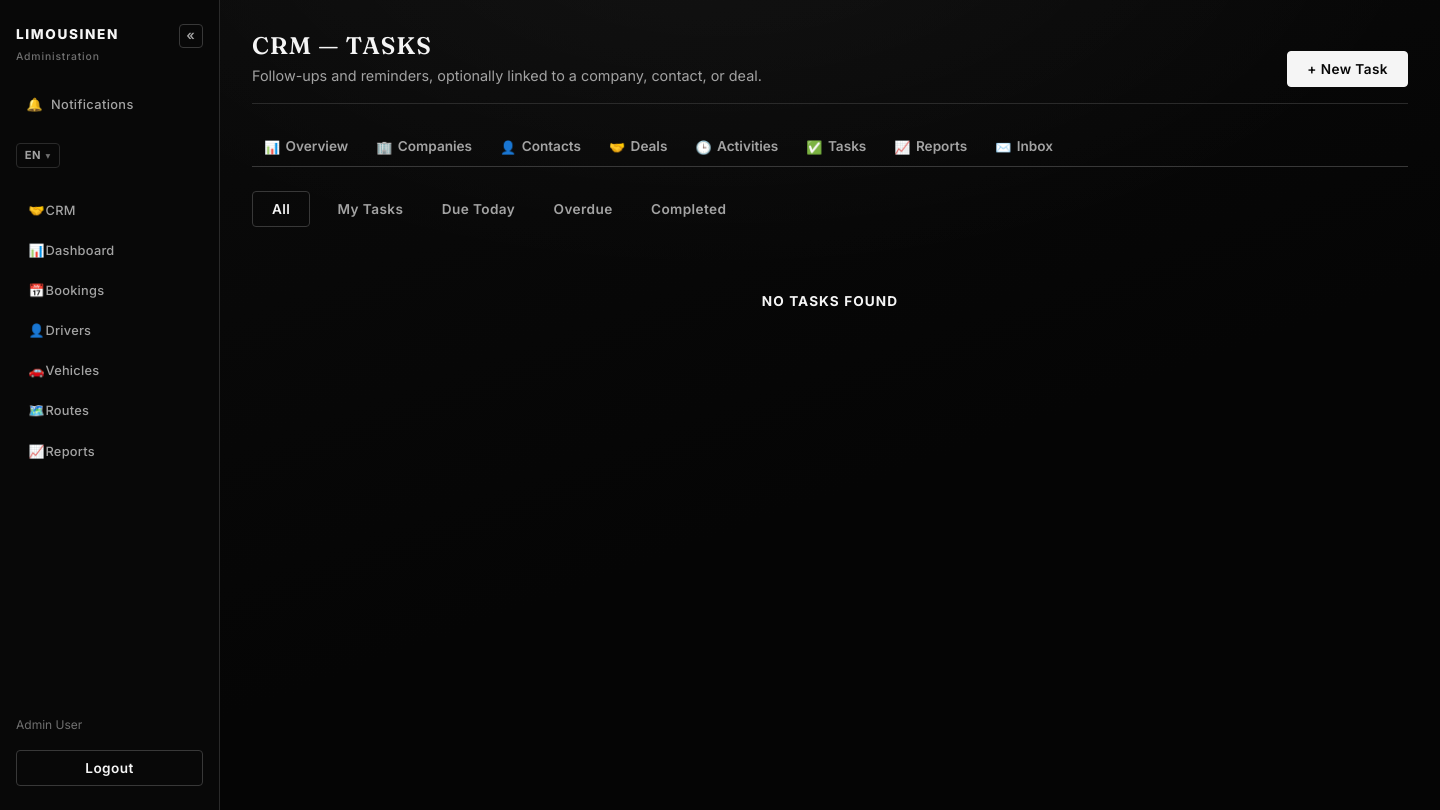
CrmTasksPage › rejects an empty create-task form client-side
expect the text "No Tasks Found" is shown: met, box [762,293,898,309]
Click the button "+ New Task" at x=1348, y=69, box [1287,52,1408,87]
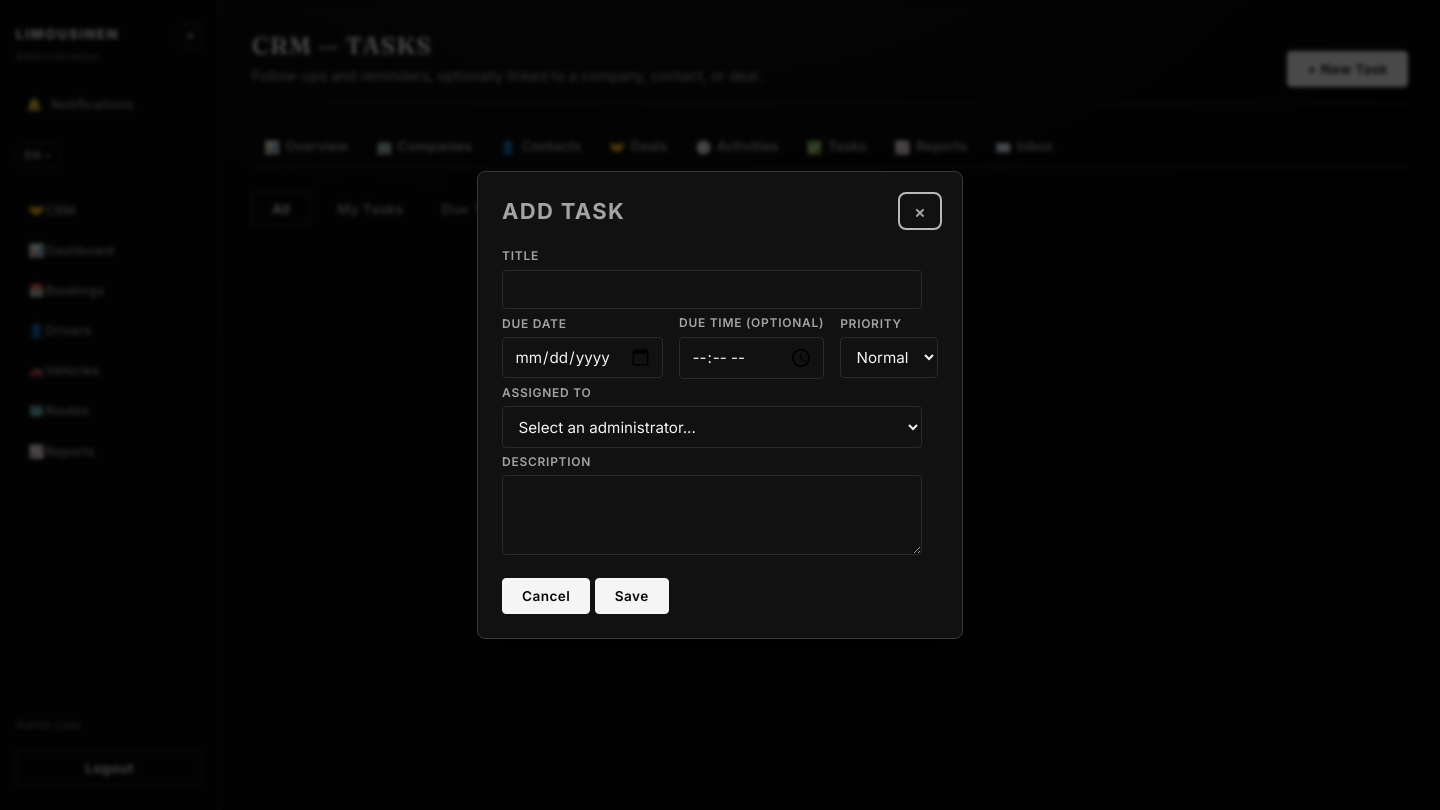
Click the button "Save" at x=632, y=596, box [595,578,669,614]
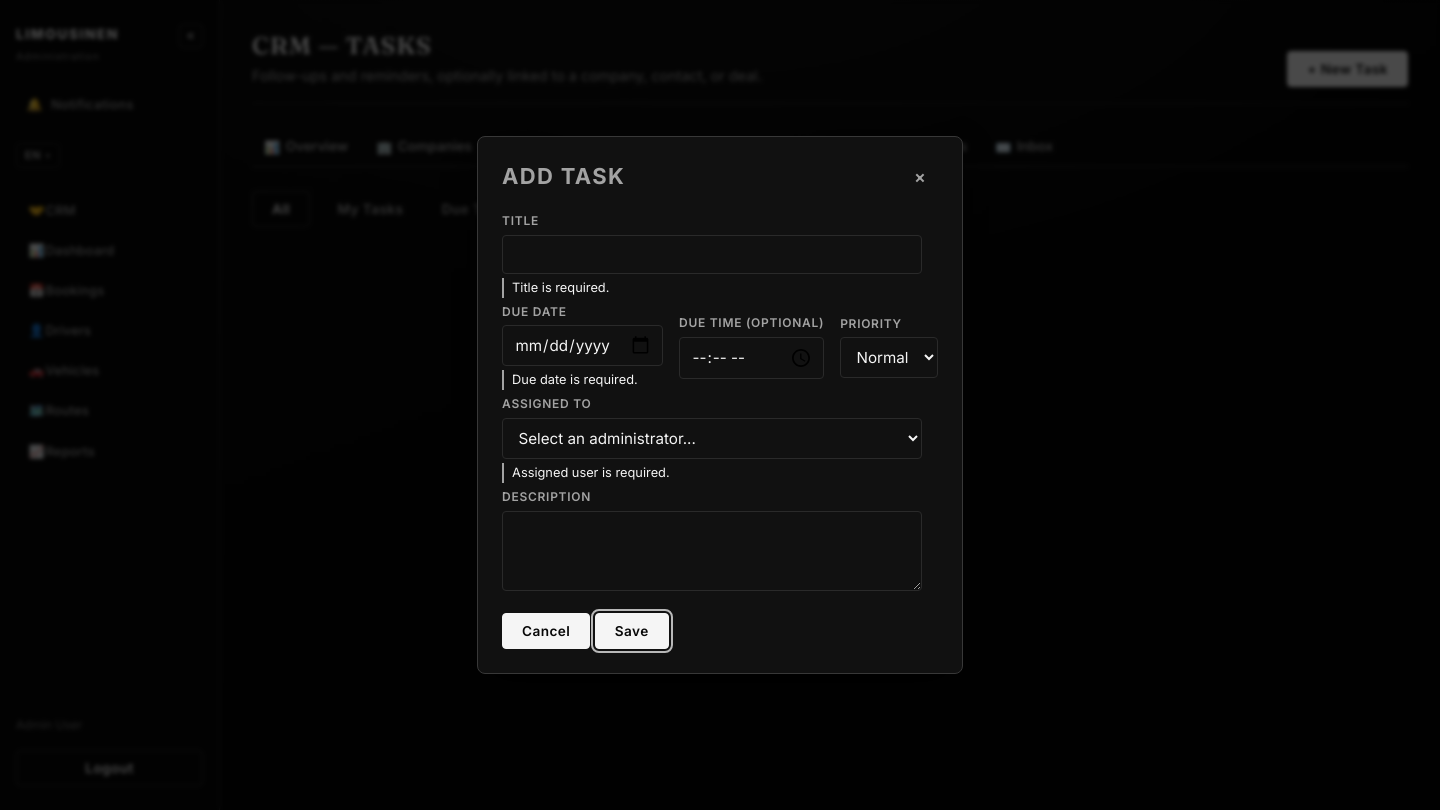
expect the text "Title is required." is shown: met, box [502,278,938,298]
